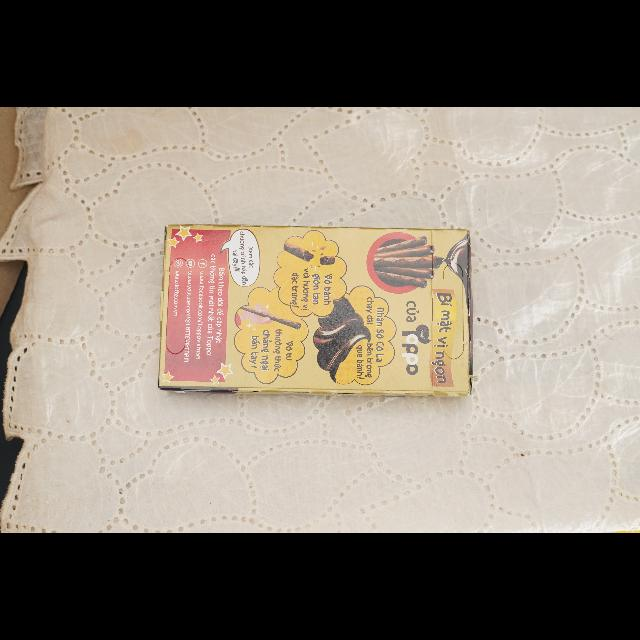banh_toppo_socola: (159, 225, 472, 396)
